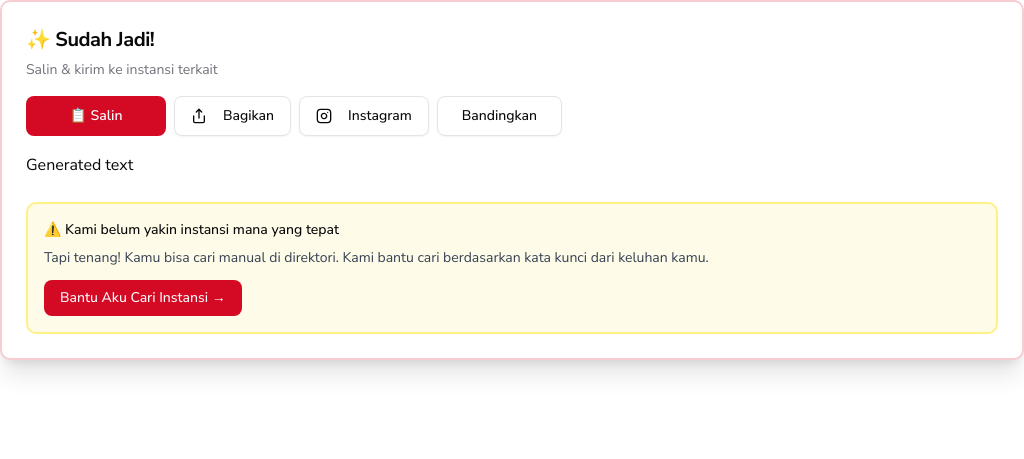
it: GeneratedComplaint Component › shows comparison view when button clicked
Click the button "Bandingkan" at (499, 116), box [437,96,562,136]
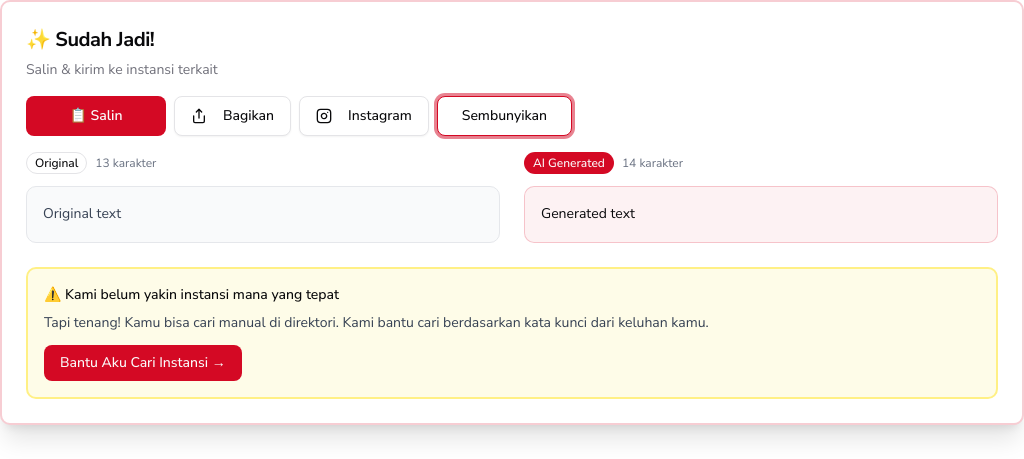
Expected: the text "Generated text" is shown, [541,204,635,223]
Now the text "Original text" is shown, box [43,204,121,223]
